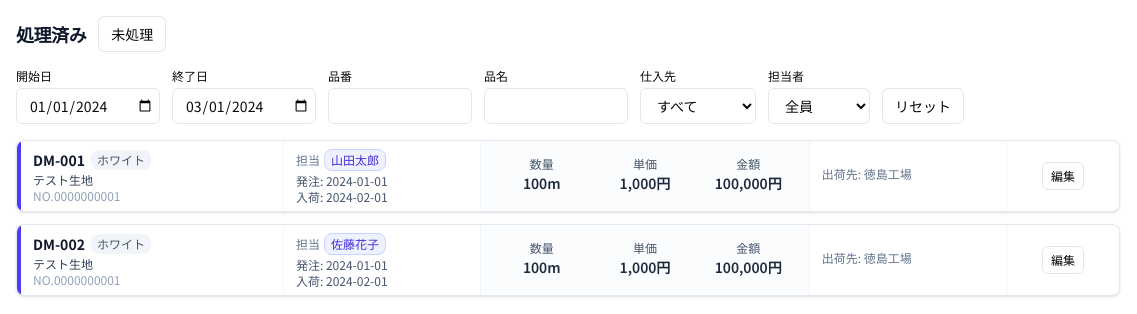
AccountingConfirmTable › 担当者で絞り込むと他の担当のレコードが表示されない
Select "佐藤花子" in the dropdown labelled "担当者" at (819, 106), box [768,88,870,124]
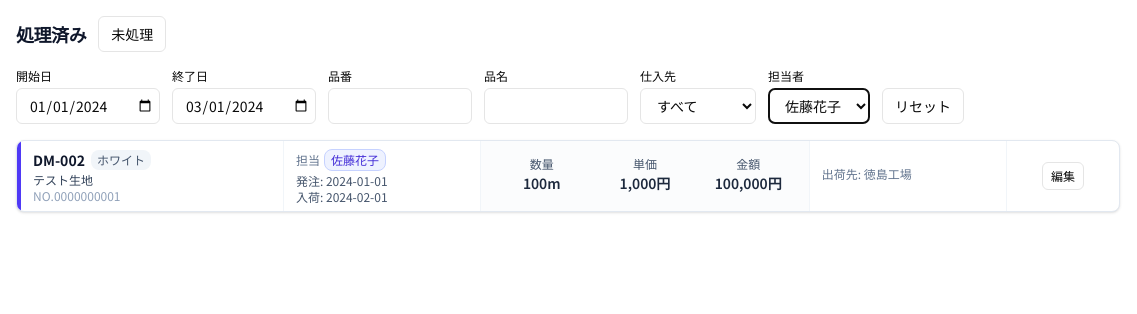
Expected: the text "DM-002" is shown, [33,153,85,167]
Result: the text "DM-001" is gone
